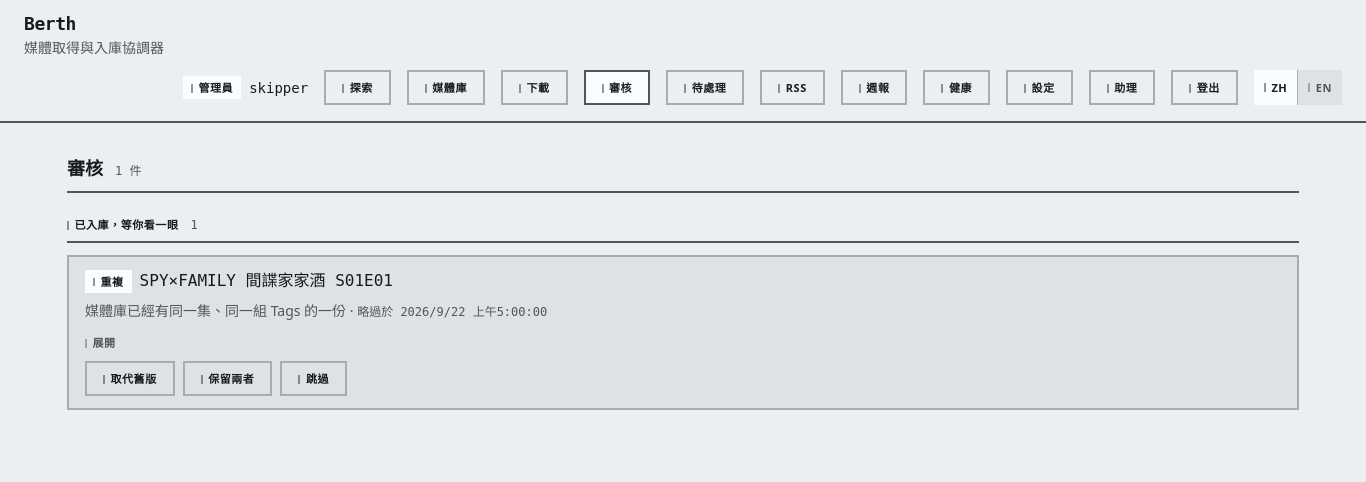
it: 對不到與重複版本的請求沒成時說出對的原因 › 跳過重複版本（離線）
The width and height of the screenshot is (1366, 482).
Click the button "跳過" at coordinates (314, 378), box [280,361,347,396]
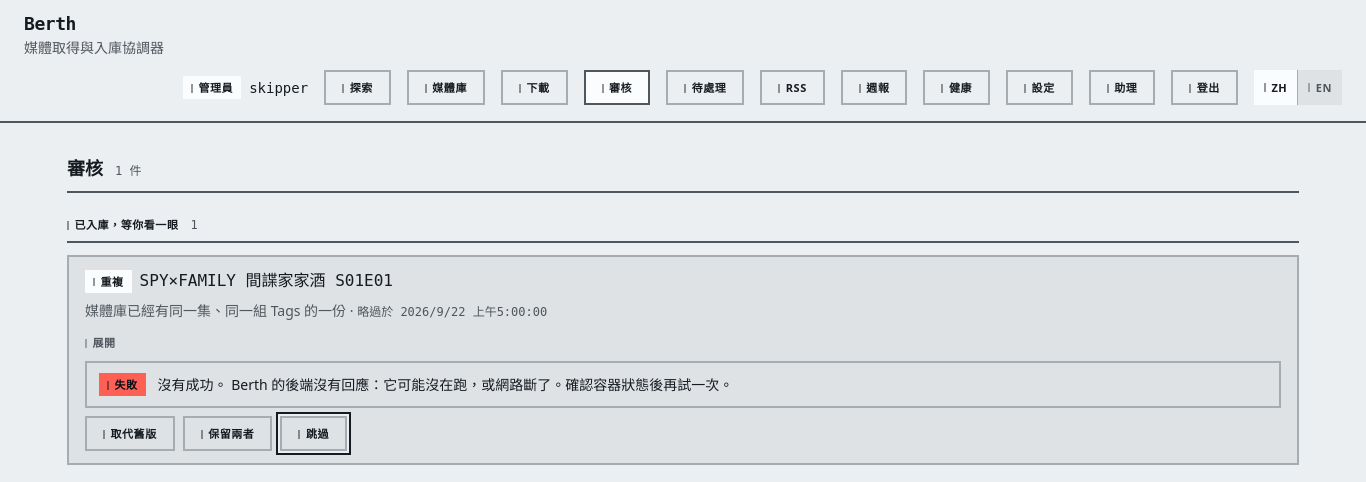
Expected: the text "沒有成功。 Berth 的後端沒有回應：它可能沒在跑，或網路斷了。確認容器狀態後再試一次。" does not show "自己的 API", [158,374,733,394]
Expected: the text "沒有成功。 Berth 的後端沒有回應：它可能沒在跑，或網路斷了。確認容器狀態後再試一次。" is shown, [158,374,733,394]
